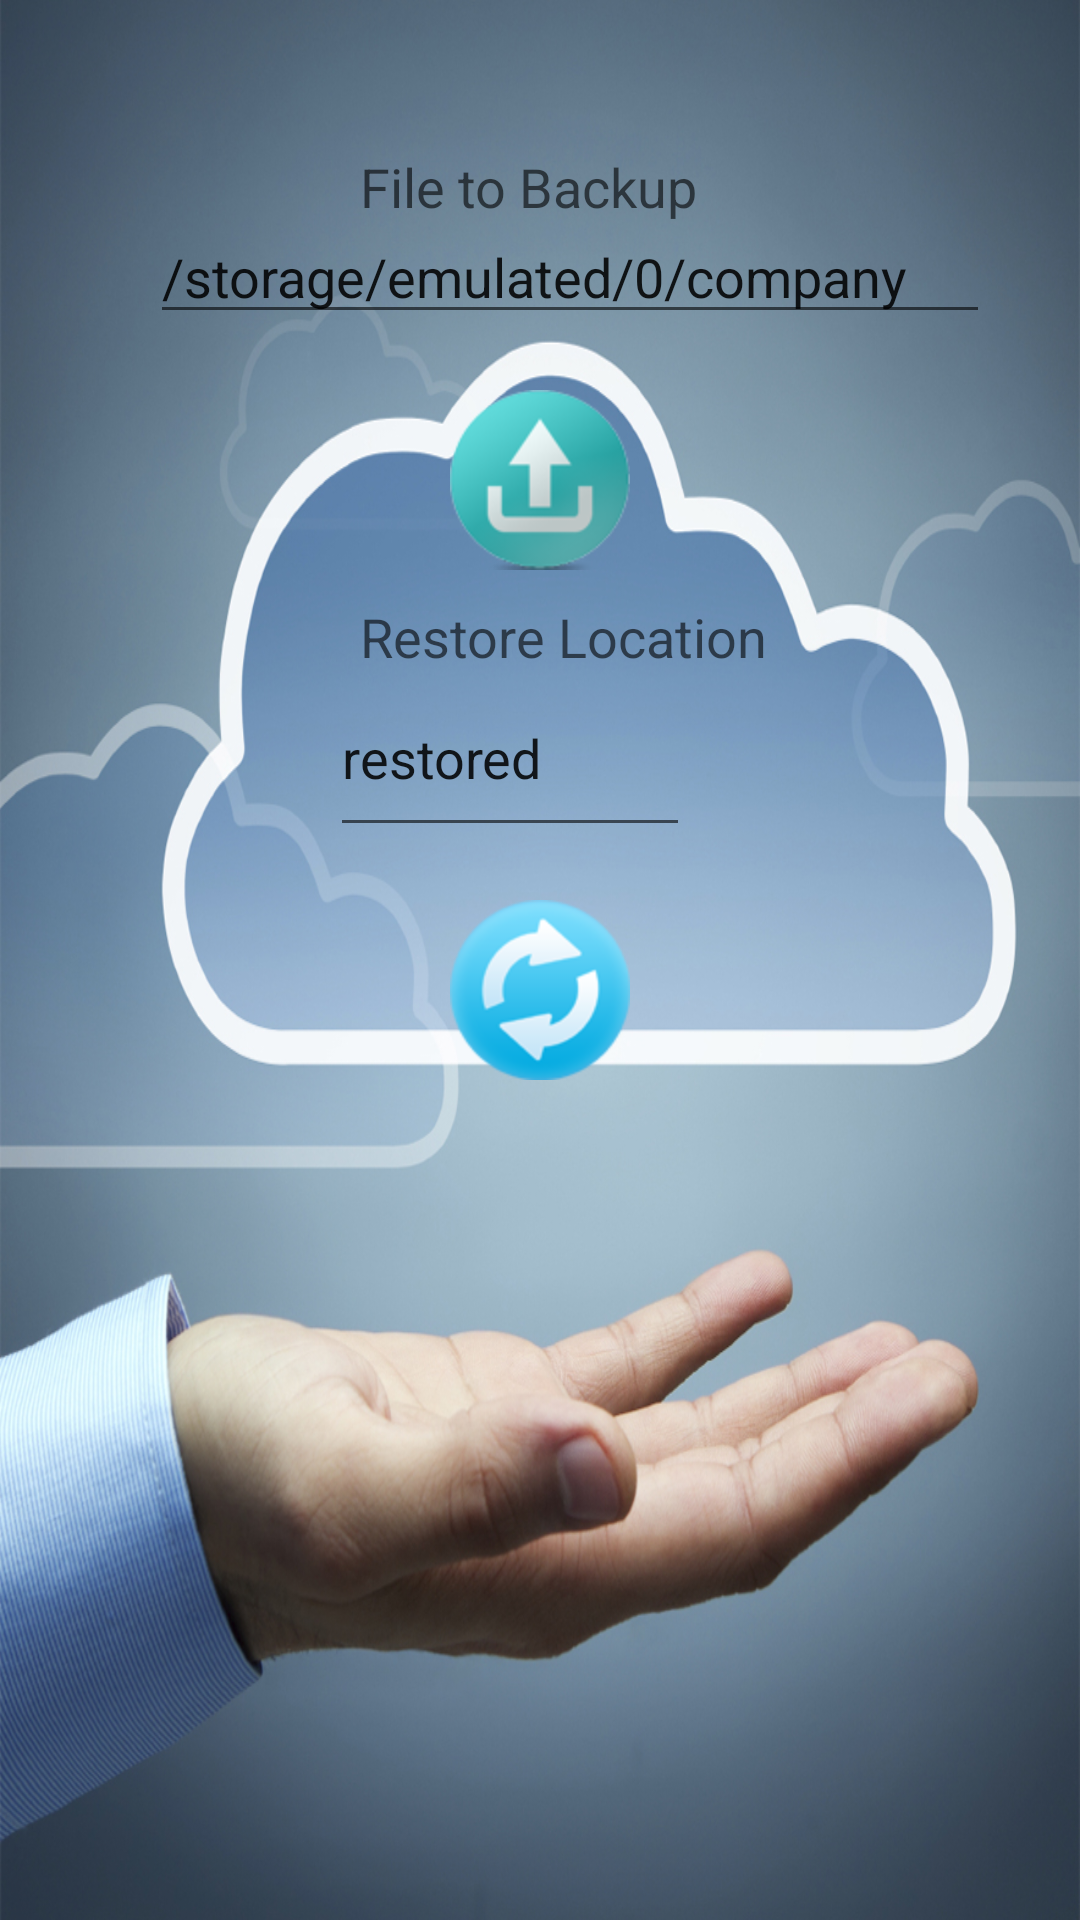

Icon click points for this 1080 × 1920 phone screenshot, format (x=x, y=y):
backup: (x=540, y=480)
